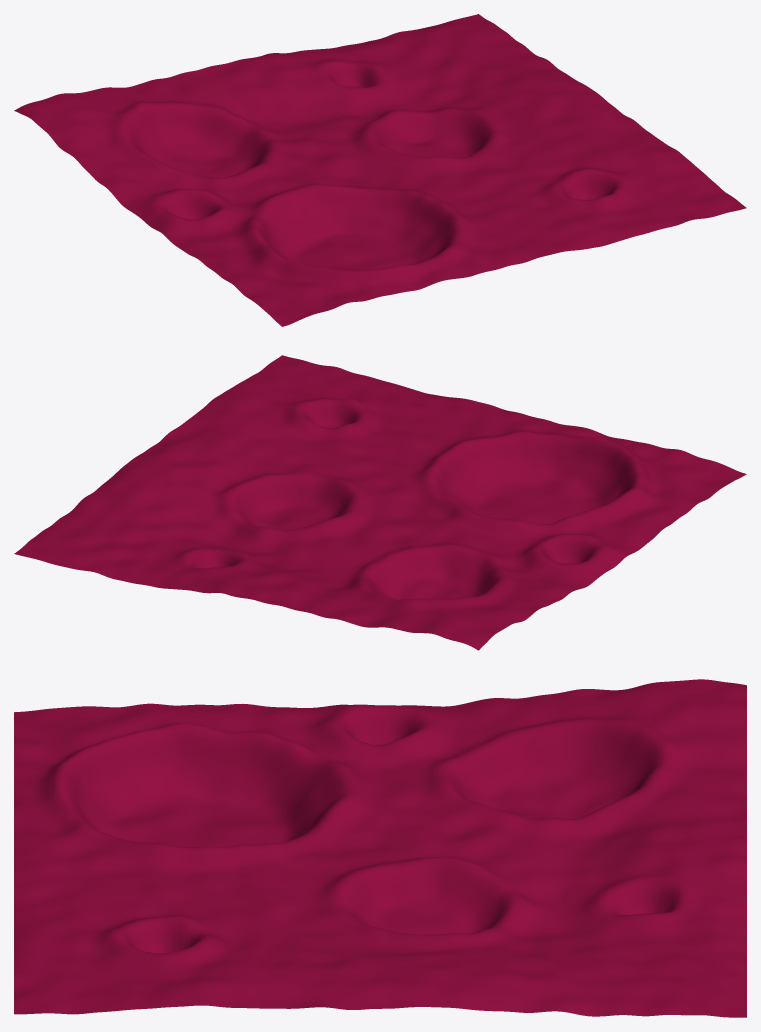
The model's file is moon surface test.fbx.
3 renders of one model, top to bottom at view 1: azimuth 30°, elevation 25°; view 2: azimuth 150°, elevation 25°; view 3: azimuth 270°, elevation 25°, orthographic. The views are drawn at different scales.
Parts seen in each view (by area): view 1: Plane001; view 2: Plane001; view 3: Plane001.
Part boxes in pixels (left/top/right/bottom): Plane001: left=14, top=14, right=746, bottom=326; Plane001: left=14, top=355, right=746, bottom=650; Plane001: left=14, top=679, right=746, bottom=1017.
Size of the model in its own units: 394 by 38.98 by 394.
